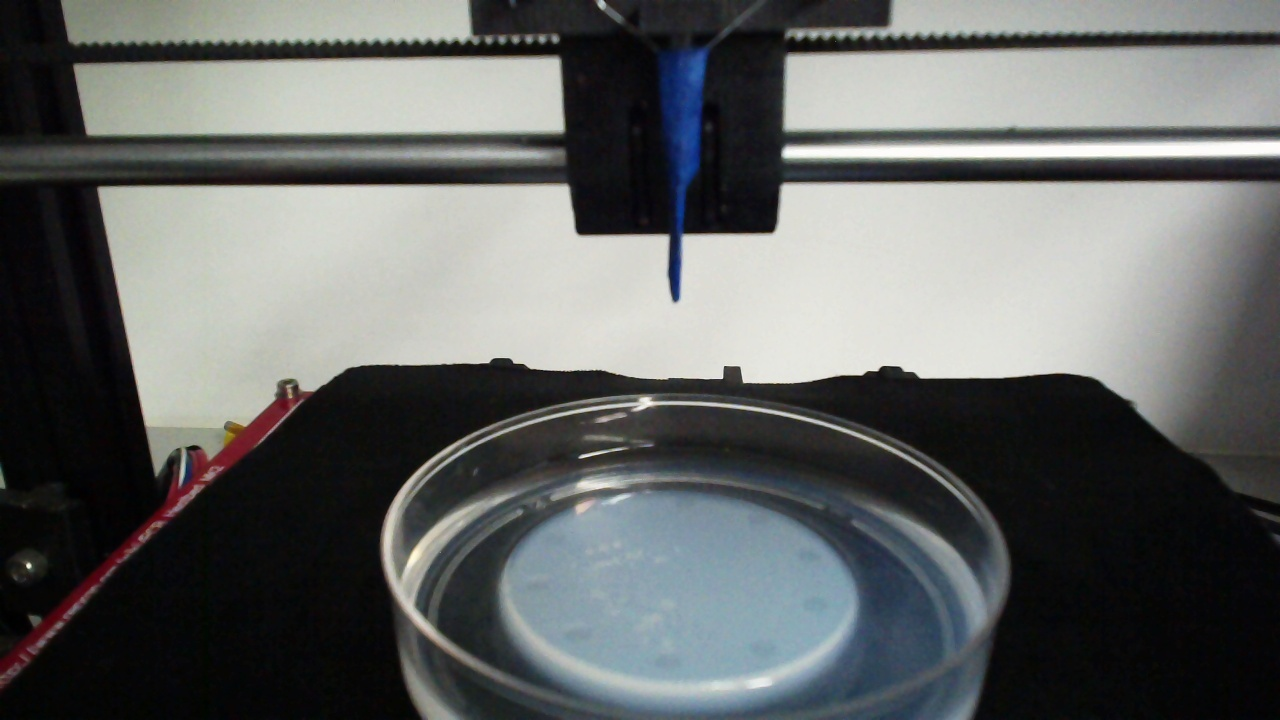groove: (800, 593, 831, 615), (748, 638, 778, 659), (652, 653, 683, 672), (525, 579, 553, 599), (562, 627, 593, 645), (796, 548, 826, 565), (542, 529, 570, 546), (674, 491, 699, 509), (747, 508, 770, 526)
needle: (661, 52, 706, 302)
